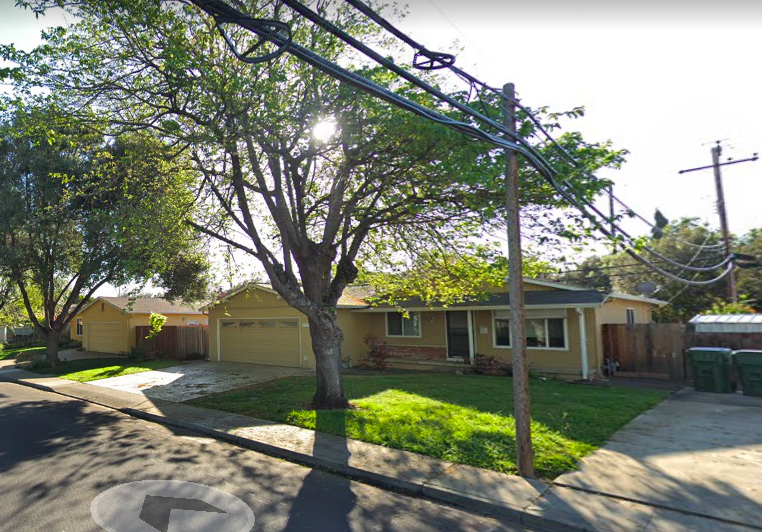tree: (1, 5, 630, 410), (1, 107, 213, 366)
utility_pole: (478, 67, 537, 174), (671, 131, 762, 199)
